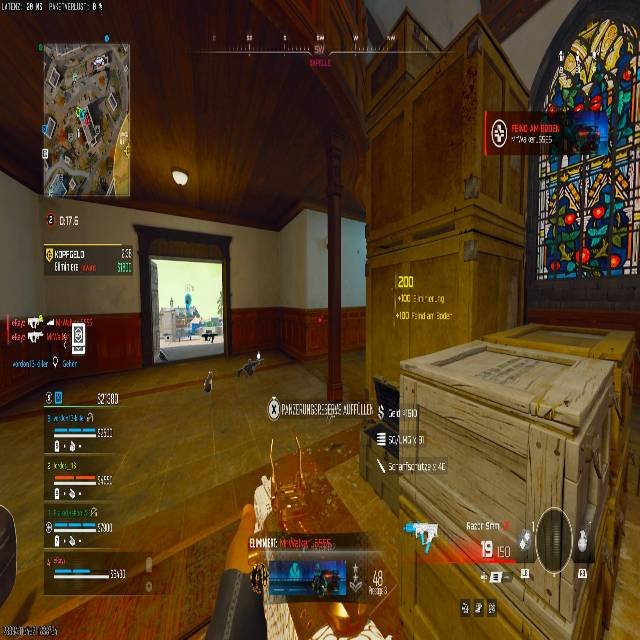head: (183, 293, 192, 308)
player: (172, 293, 202, 341)
